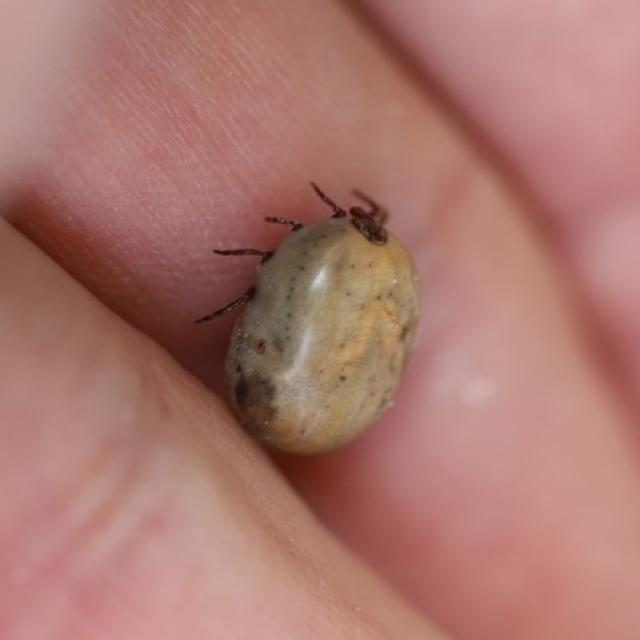Dermacentor Reticulatus-F-Fed: (194, 182, 423, 458)
